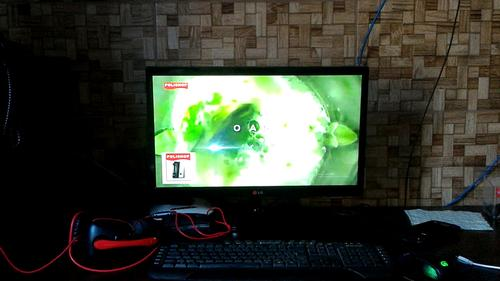Polishop #1: (161, 150, 196, 183)
